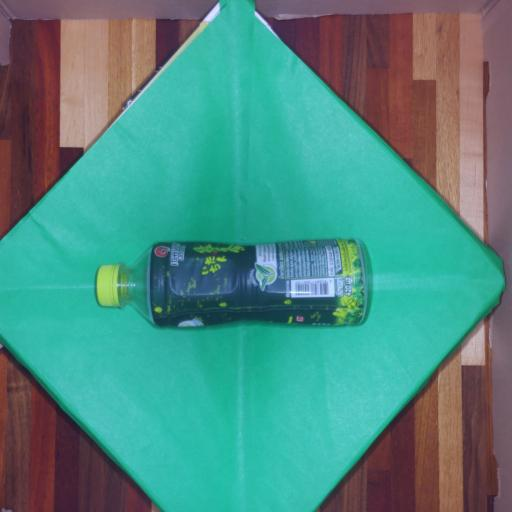bottle: (79, 228, 381, 342)
